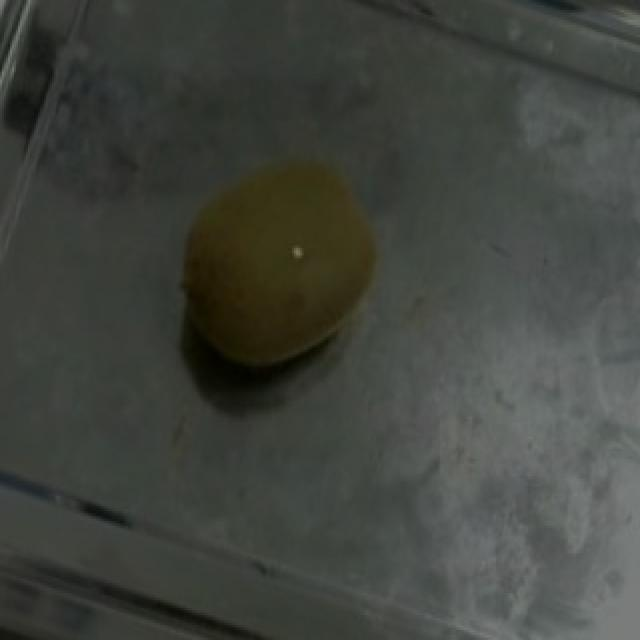Fruit: (136, 124, 420, 417)
